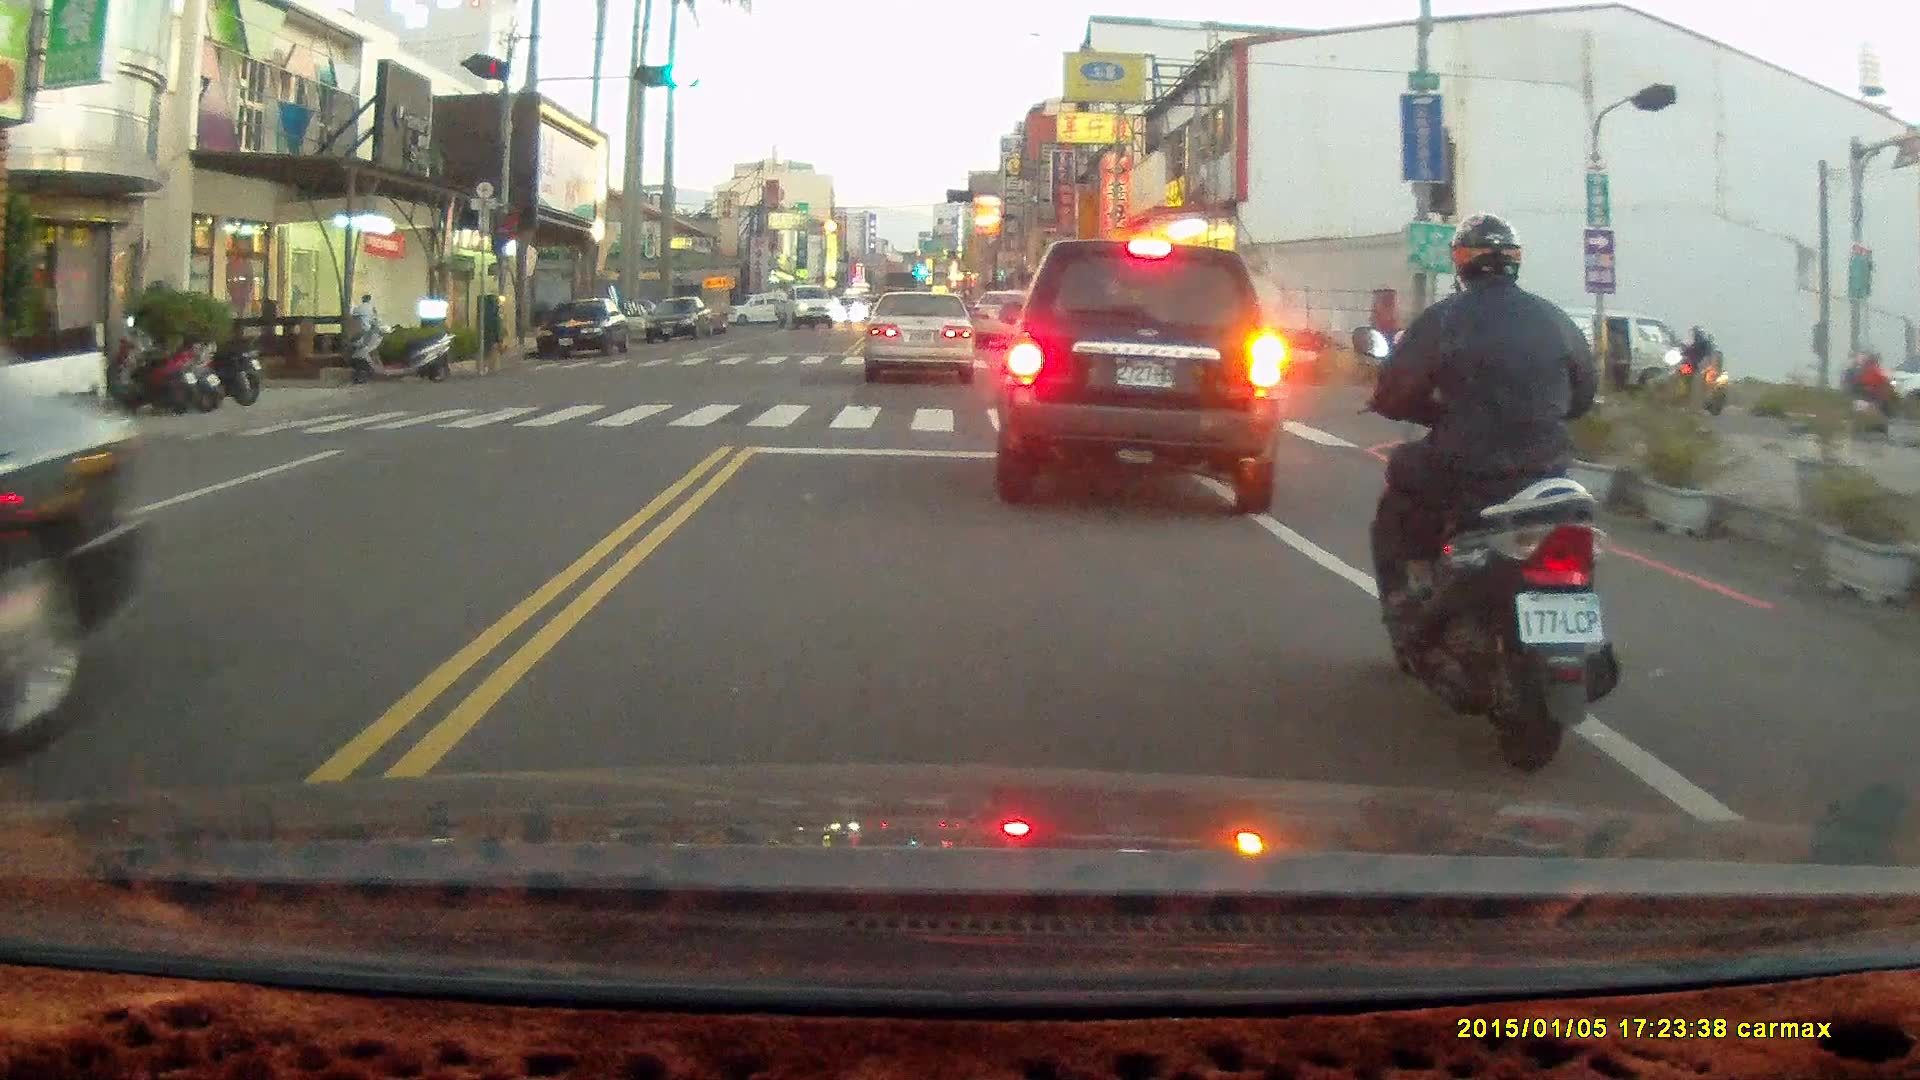pedestrian: (349, 292, 380, 359), (1604, 321, 1627, 393)
rider: (1343, 211, 1617, 772), (1649, 319, 1722, 413), (1832, 350, 1904, 437)
vehicle: (1, 283, 219, 723), (996, 238, 1280, 519), (1495, 308, 1695, 408), (863, 293, 976, 389), (533, 299, 632, 359), (636, 295, 715, 343), (773, 284, 836, 334)
